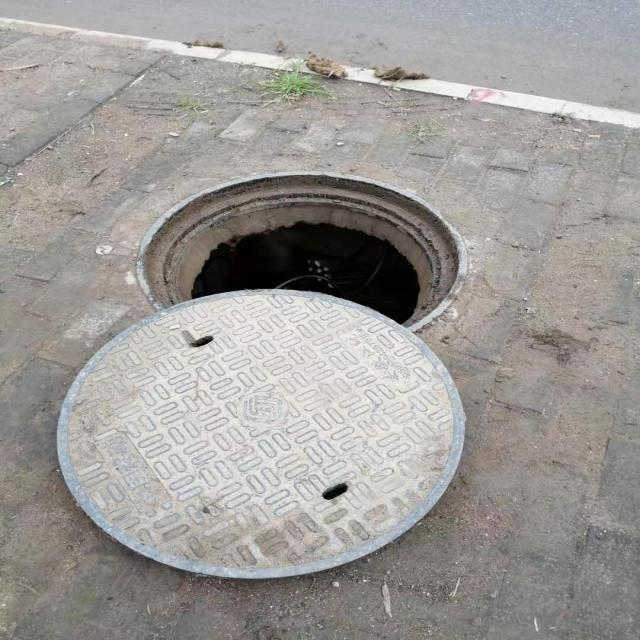Lose: (54, 170, 464, 577)
